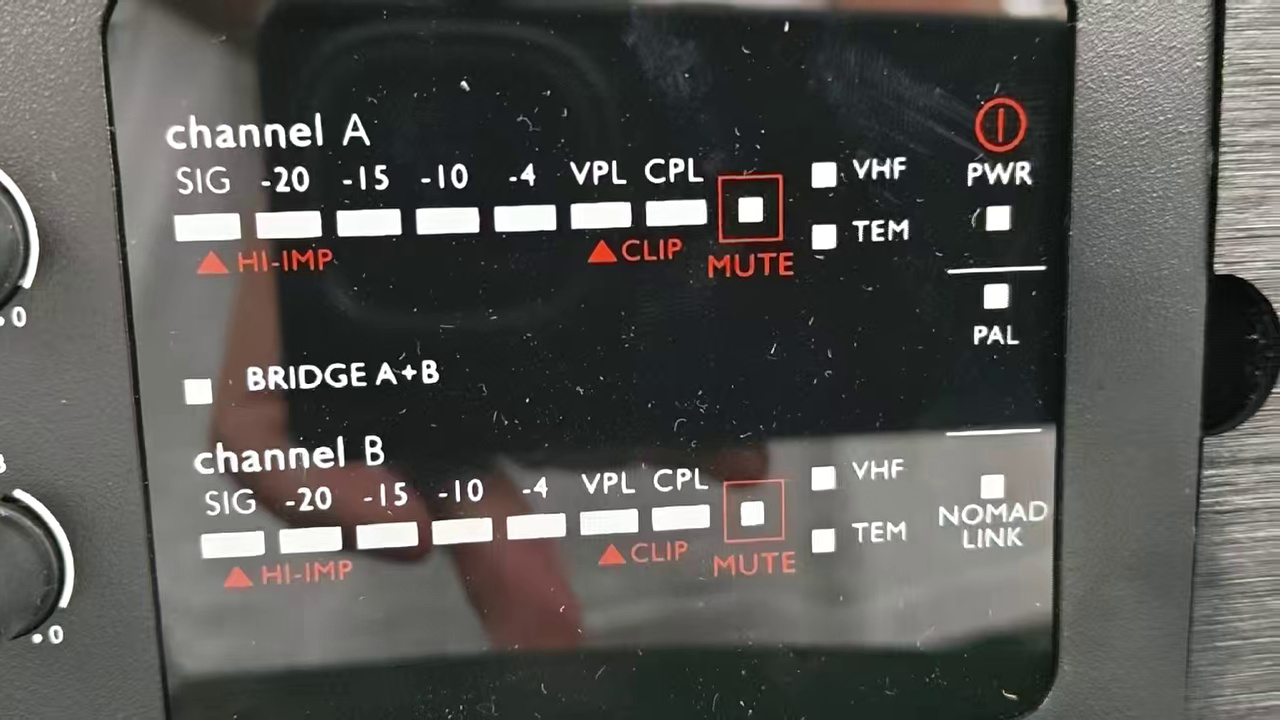FP_CPL: (647, 463, 718, 542), (640, 154, 711, 232)
FP_PWR: (959, 155, 1035, 240)
FP_PWR_area: (942, 93, 1046, 268)
FP_SIG_area: (186, 421, 908, 594), (171, 149, 912, 297)
FP_VPL: (562, 158, 636, 237), (577, 467, 646, 541)
